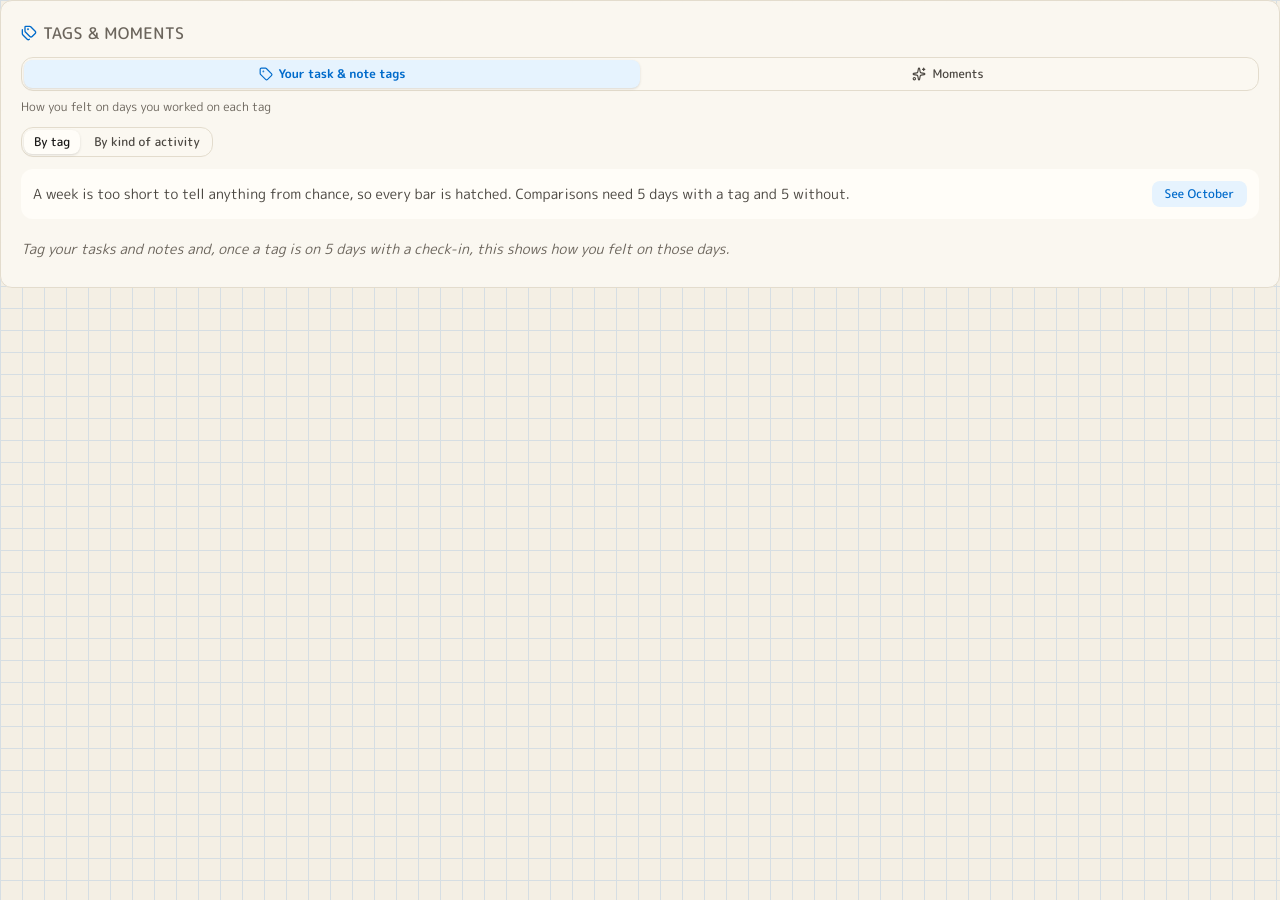
ReportTagsCard › by kind of activity › points a week to its month
This screenshot has width=1280, height=900.
What coordinates should you click on to do the following:
click the button "By kind of activity"
I would click on:
 (147, 142)
Its box is top-left (84, 130), bottom-right (210, 154).
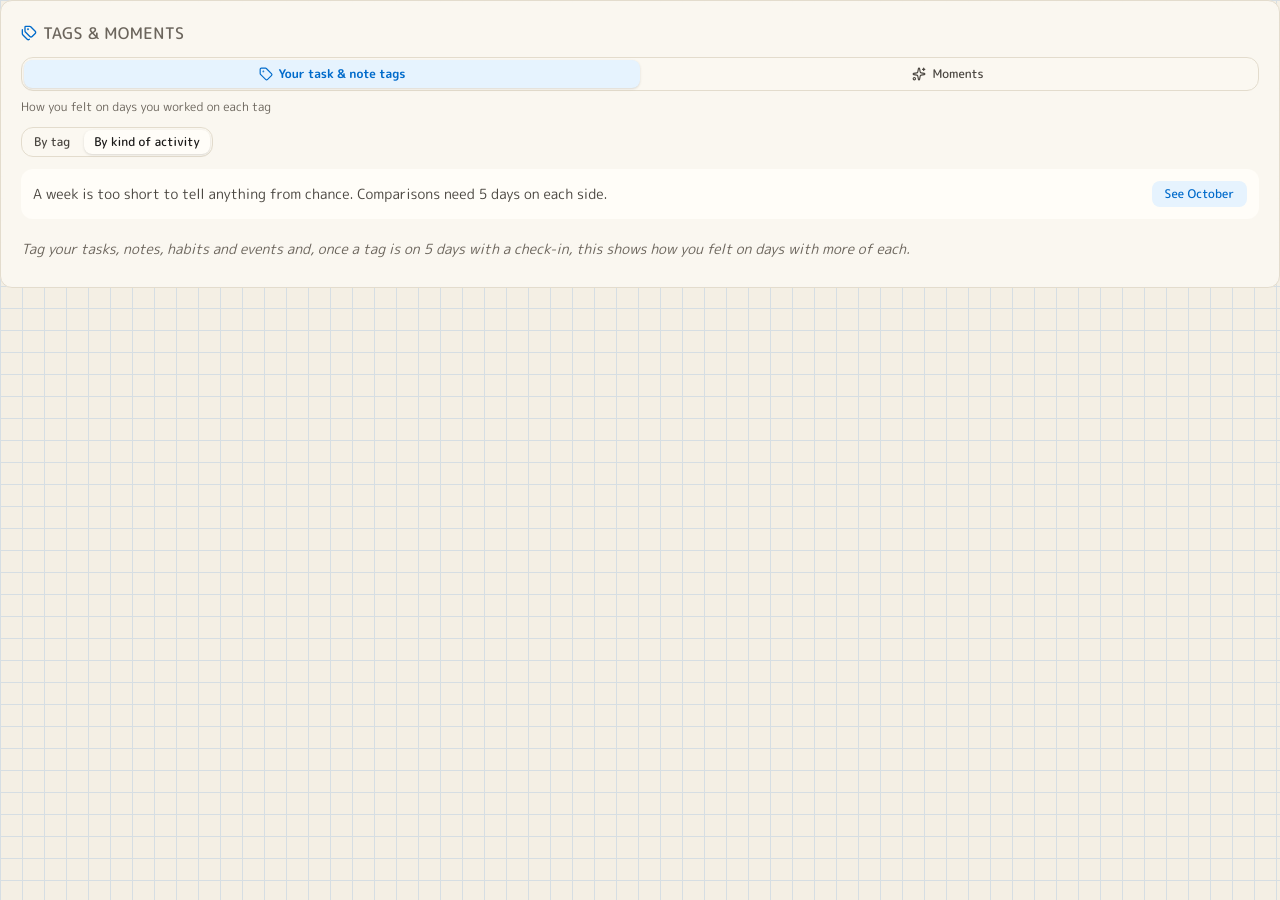
Expected: the text "A week is too short to tell anything from chance. Comparisons need 5 days on each side." is shown, top-left (33, 184), bottom-right (608, 203)
